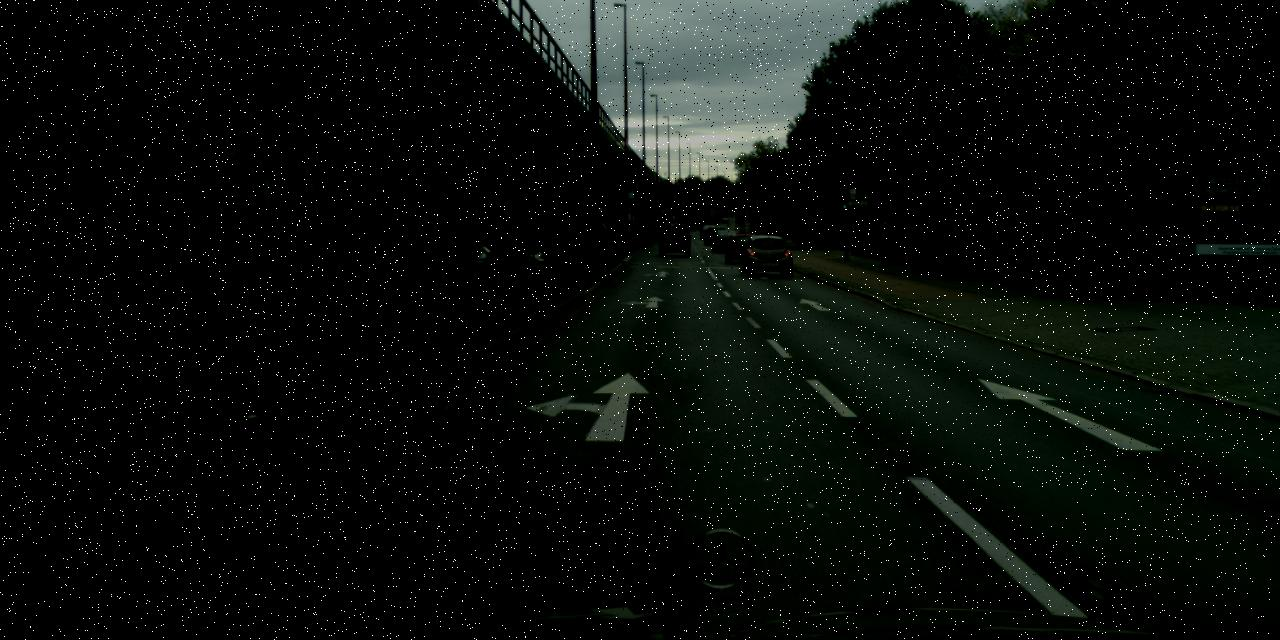ped: (877, 222, 892, 259), (780, 219, 788, 240)
